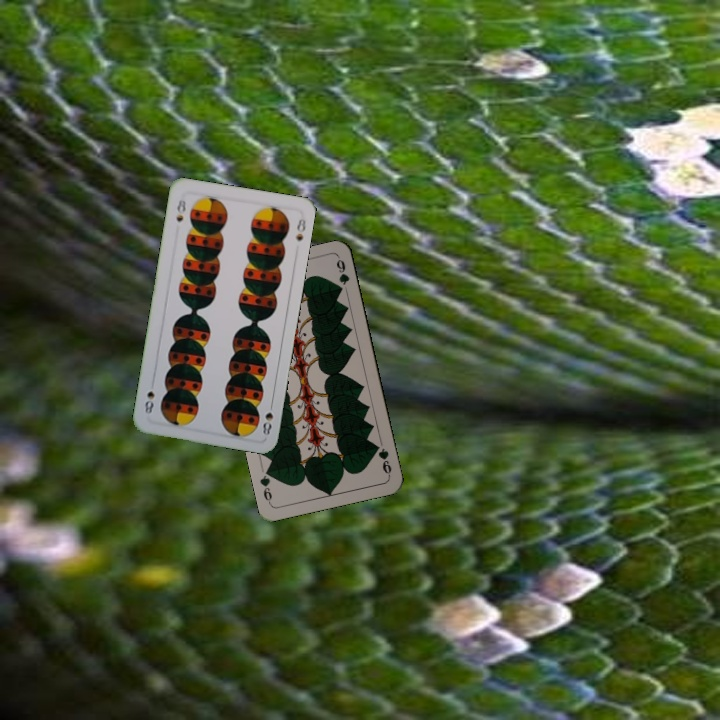G9: (370, 440, 394, 478)
S8: (259, 398, 276, 438), (172, 195, 189, 224)
